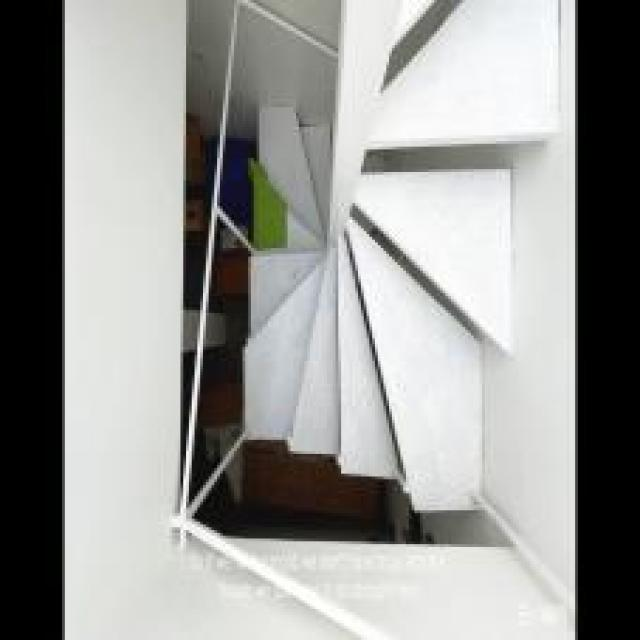downstair: (241, 246, 438, 489)
